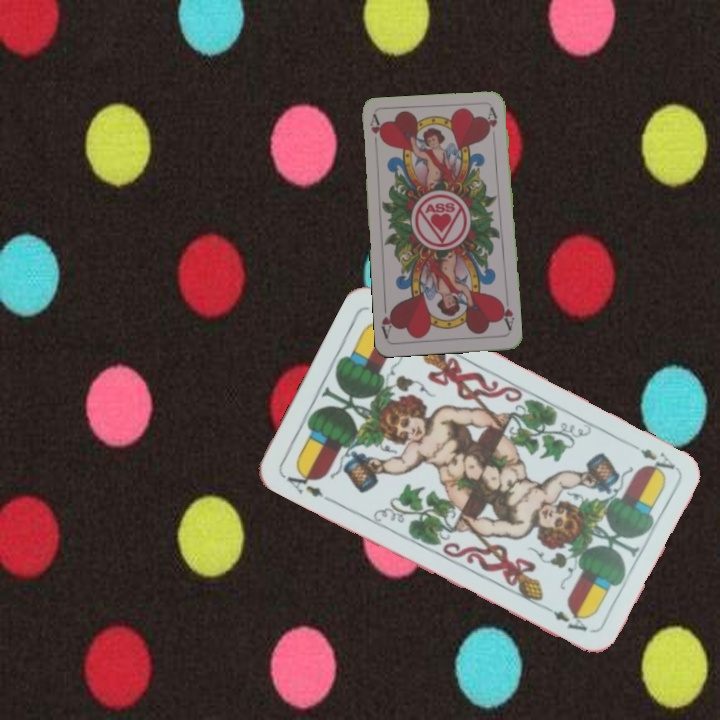EA: (279, 463, 334, 505), (625, 438, 678, 479)
HA: (496, 293, 517, 333), (365, 112, 386, 144)
